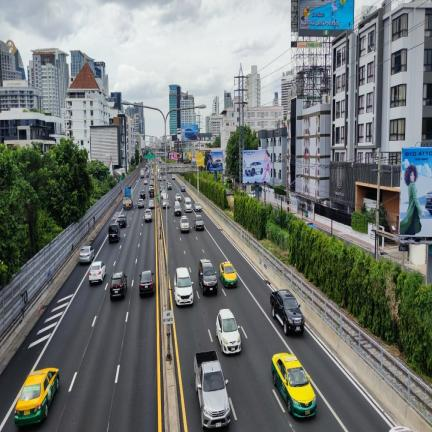car: (216, 309, 240, 353), (174, 268, 193, 304), (198, 259, 217, 294), (110, 271, 127, 298), (89, 261, 106, 284), (139, 271, 154, 296), (79, 246, 94, 263), (109, 223, 120, 242), (194, 215, 204, 230), (180, 216, 189, 232), (117, 215, 126, 227), (144, 209, 152, 221), (149, 186, 154, 197), (195, 202, 201, 211), (138, 199, 144, 208), (148, 200, 154, 208), (163, 200, 169, 208), (161, 190, 166, 199), (140, 191, 145, 199), (167, 182, 172, 189), (176, 194, 181, 200), (150, 178, 154, 185), (160, 184, 164, 191), (181, 185, 185, 191), (146, 172, 149, 177), (144, 179, 147, 184), (172, 175, 175, 179), (163, 176, 166, 180), (159, 176, 161, 181)
pickup: (270, 289, 304, 335)
taxi: (271, 353, 316, 417), (15, 368, 58, 426), (219, 262, 237, 286)
truck: (194, 350, 230, 428), (123, 187, 133, 208), (140, 169, 145, 177)
van: (184, 197, 192, 212), (174, 201, 181, 215), (161, 190, 166, 199)
